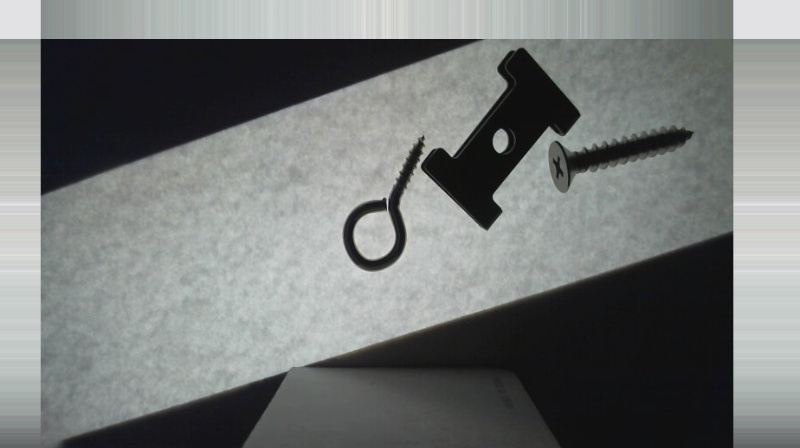O001: (340, 132, 426, 274)
O002: (419, 45, 583, 232)
S001: (544, 123, 696, 197)
